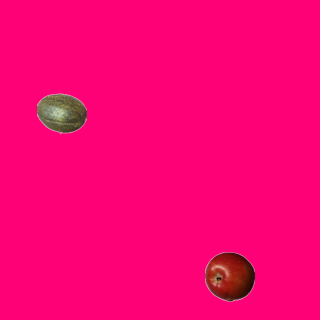Apple Braeburn: (204, 251, 254, 301)
Melon Piel de Sapo: (36, 88, 86, 138)
